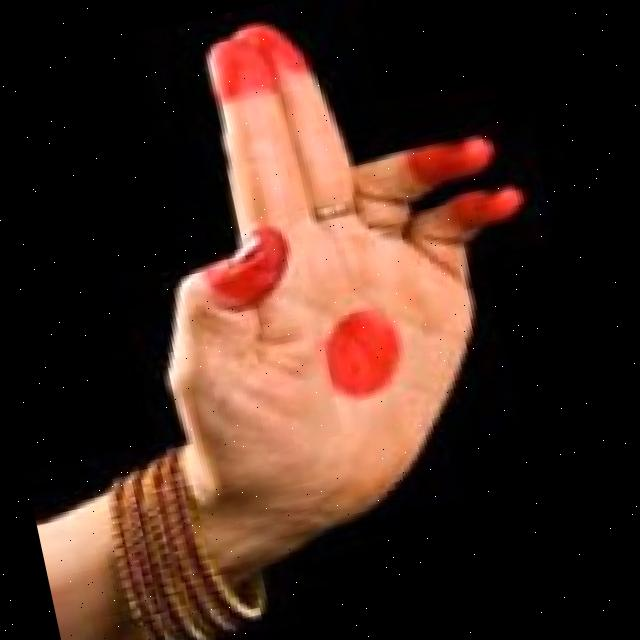Ardhapataka: (53, 0, 596, 587)
